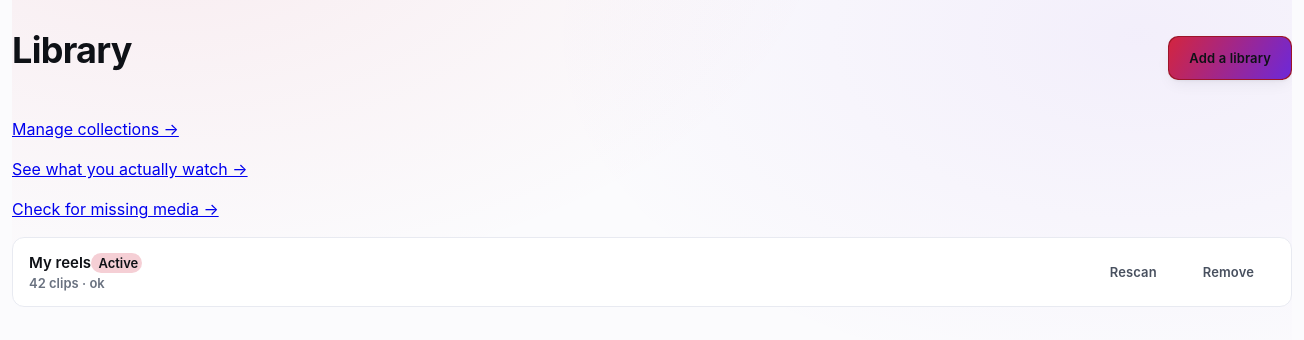
Test: rescans a library and reports the counts
What coordinates should you click on to do the following:
click the button "Rescan"
I would click on:
 (1133, 272)
Its box is [1089, 250, 1178, 294].
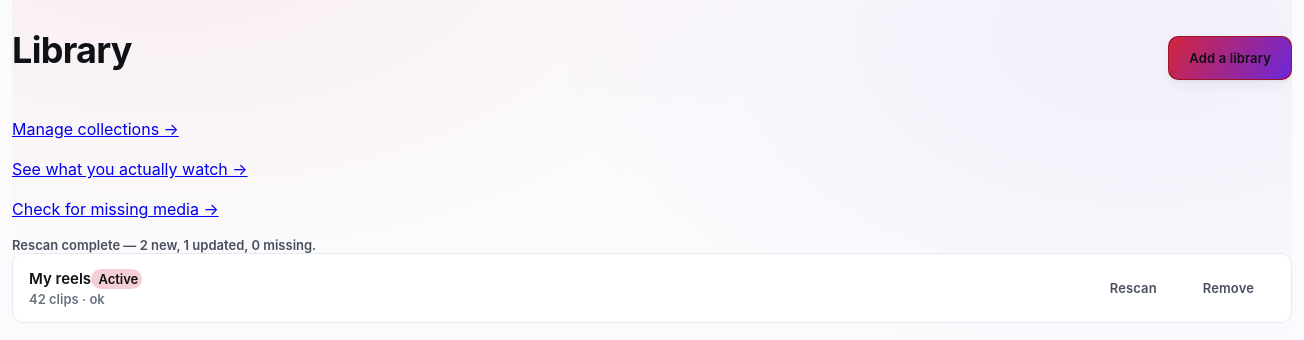
Check: the message shows "2 new, 1 updated, 0 missing", box [12, 237, 316, 253]
